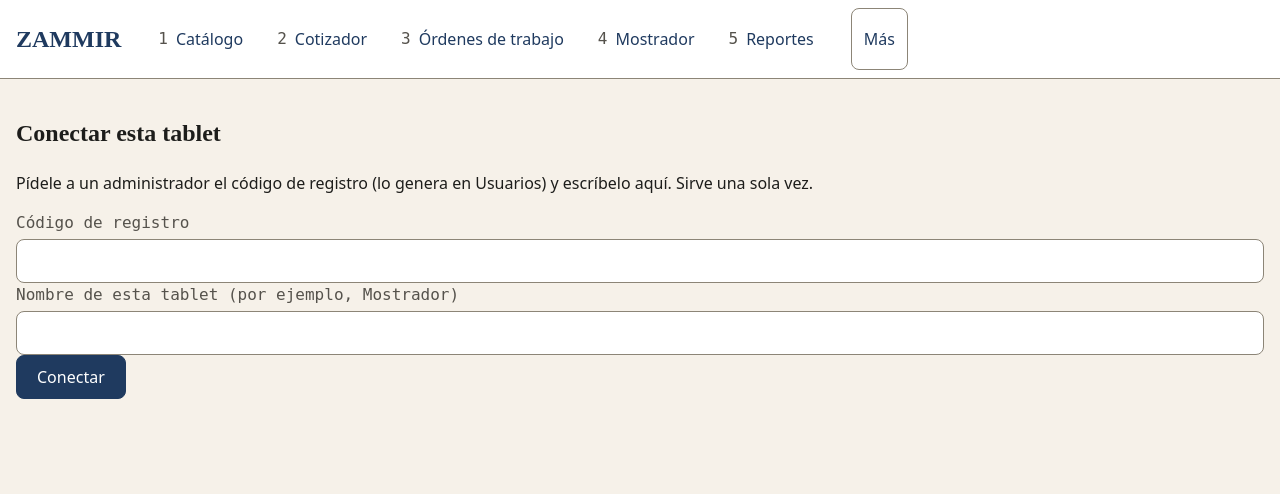
Scenario: pantalla Conectar esta tablet › si el servidor responde CODE_INVALID, dice qué pasó y qué hacer
The image size is (1280, 494).
Type "ABCD2345" into the field labelled "Código de registro".
click(640, 261); type("ABCD2345")  # box [16,239,1264,283]
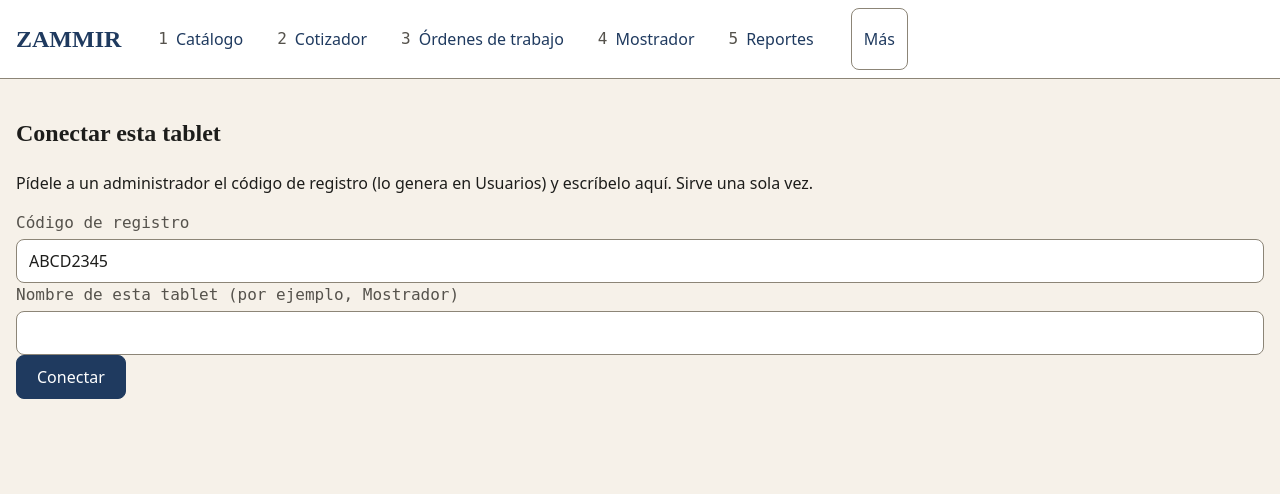
Type "Mostrador" into the field labelled "Nombre de esta tablet (por ejemplo, Mostrador)".
click(640, 333); type("Mostrador")  # box [16,311,1264,355]
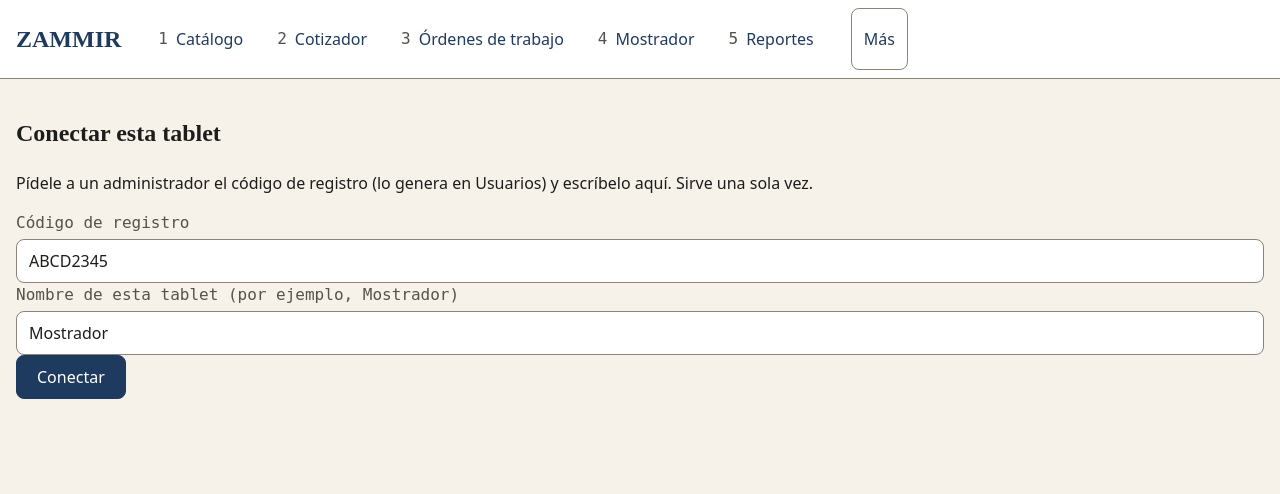
Click the button "Conectar".
click(71, 377)  # box [16,355,126,399]
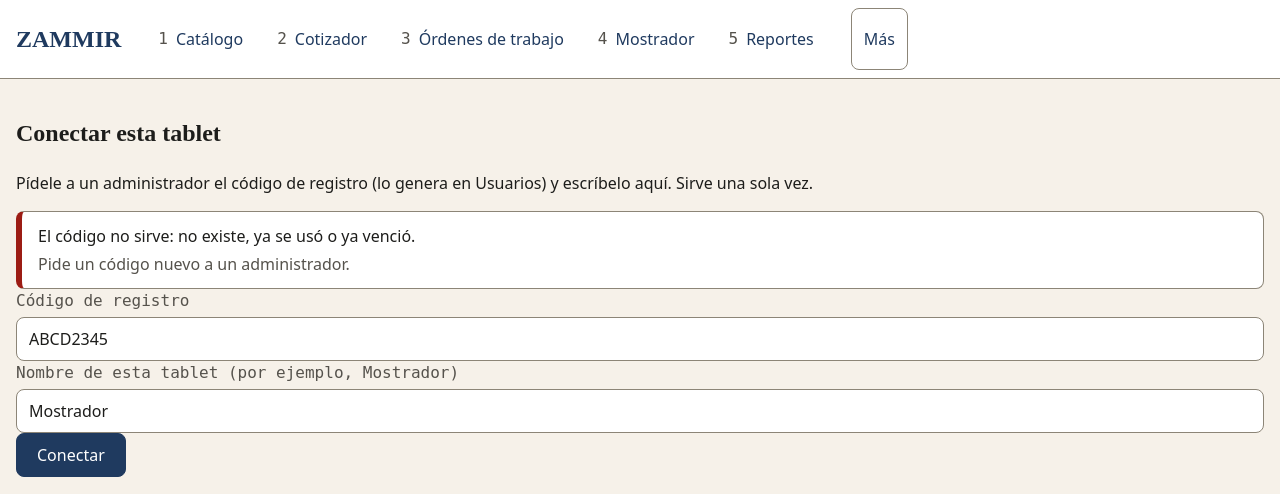
Check: the text "El código no sirve: no existe, ya se usó o ya venció." is shown, box [38,225,415,247]
Check: the text "Pide un código nuevo a un administrador." is shown, box [38,253,350,275]
